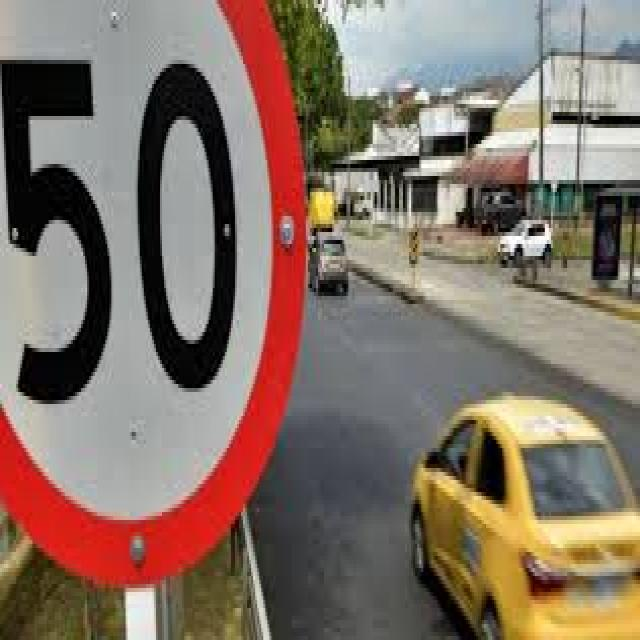Speed limit 50: (1, 1, 311, 589)
